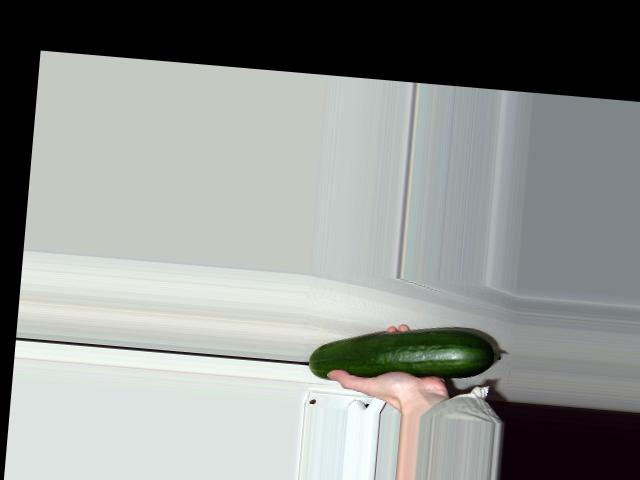cucumber: (307, 314, 503, 393)
